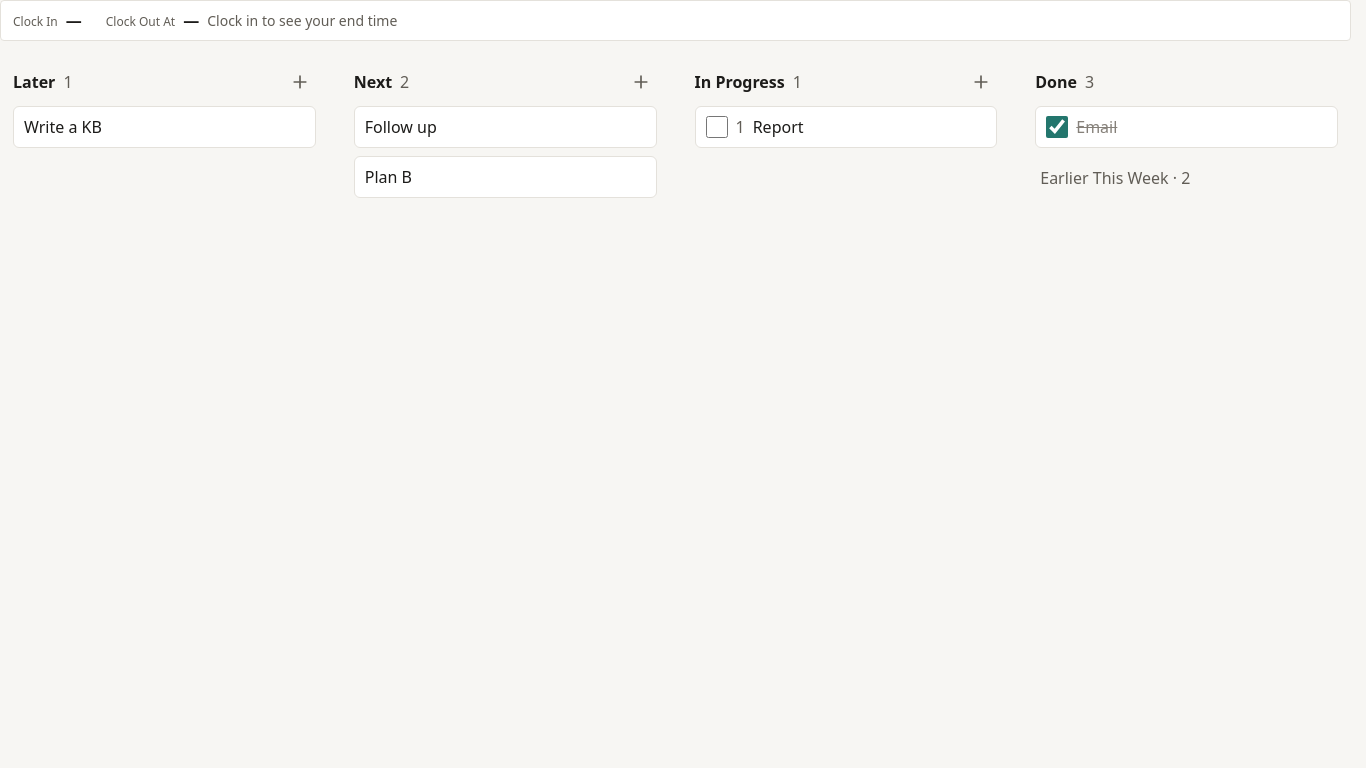
Test: starting the focus timer › starts on today's open row from its dialog, which closes with the focus on the card
The width and height of the screenshot is (1366, 768).
Click the button "Report": (870, 127) [753,115,986,139]
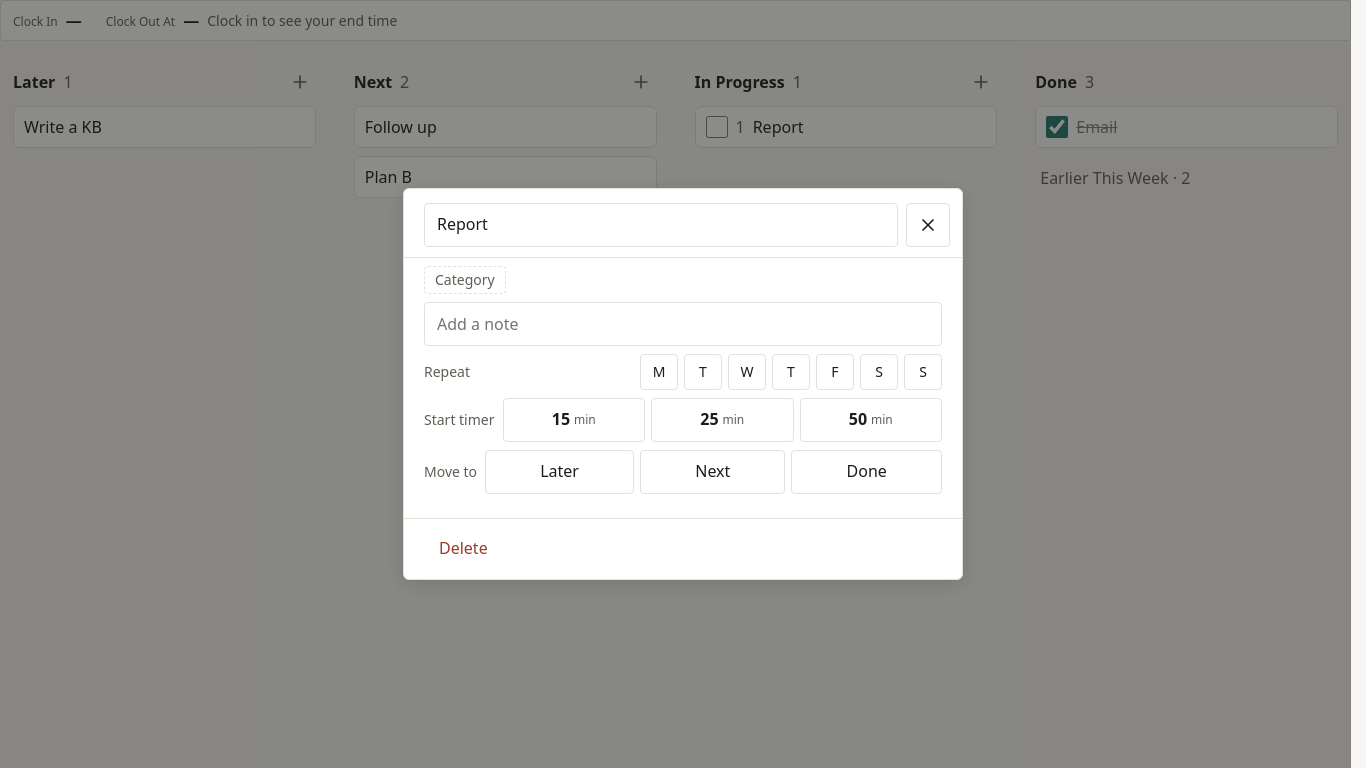
Expected: the buttons read "15min", "25min", "50min", in this order
Click the button "25 min": (722, 420) [651,398,794,442]
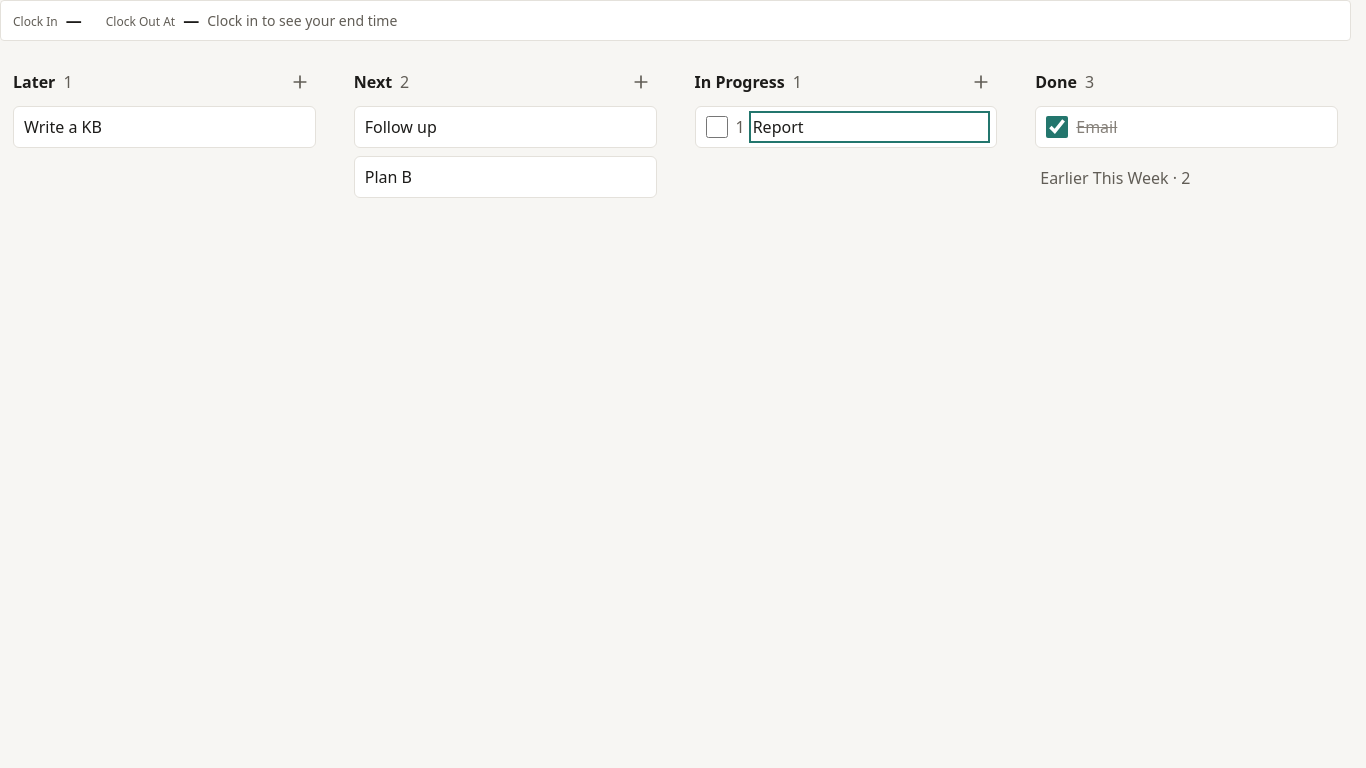
Expected: the dialog is gone
